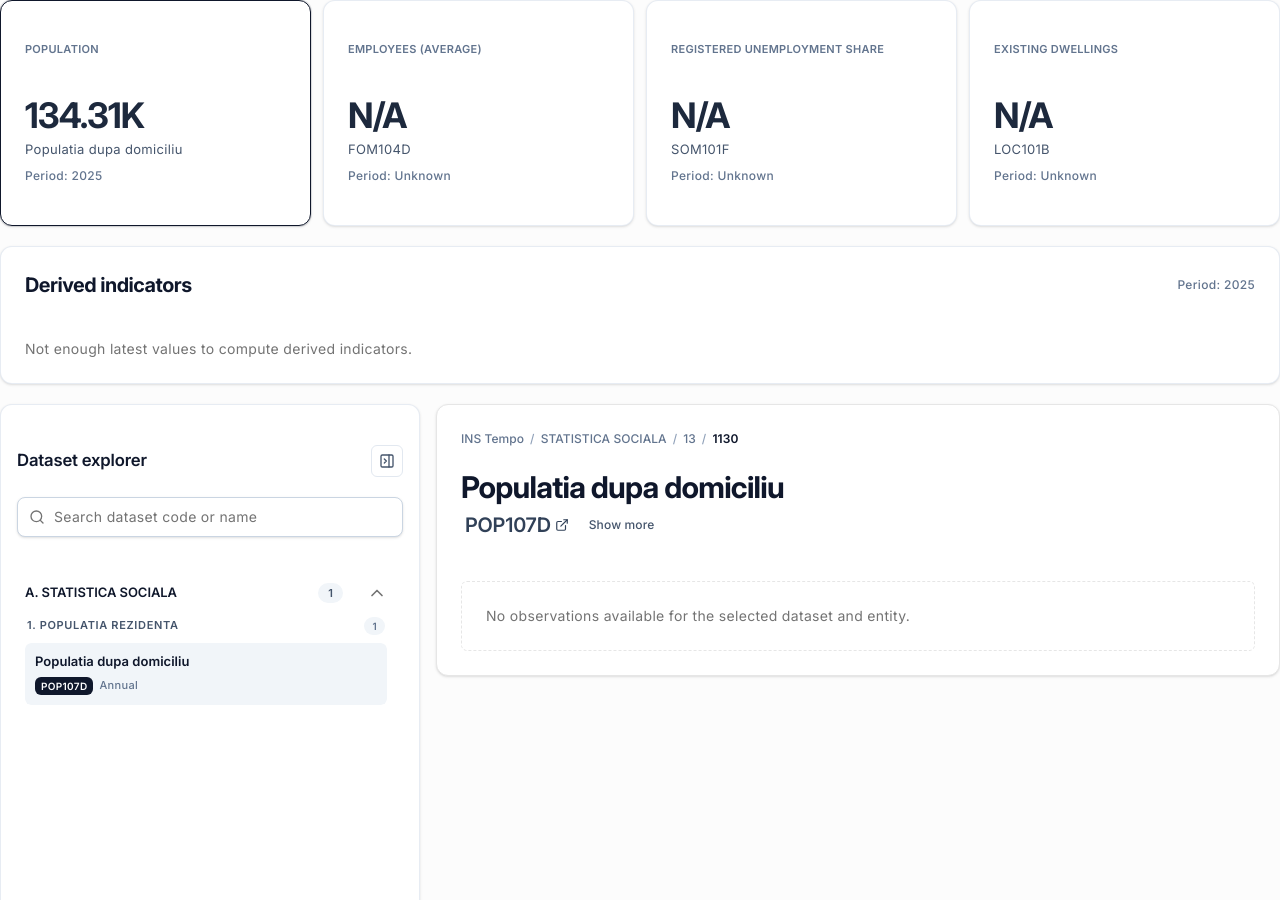
Test: InsStatsView › toggles explorer between panel and full-width modes
Click the button named "Expand explorer to full width".
click(387, 461)  # box [371,445,403,477]
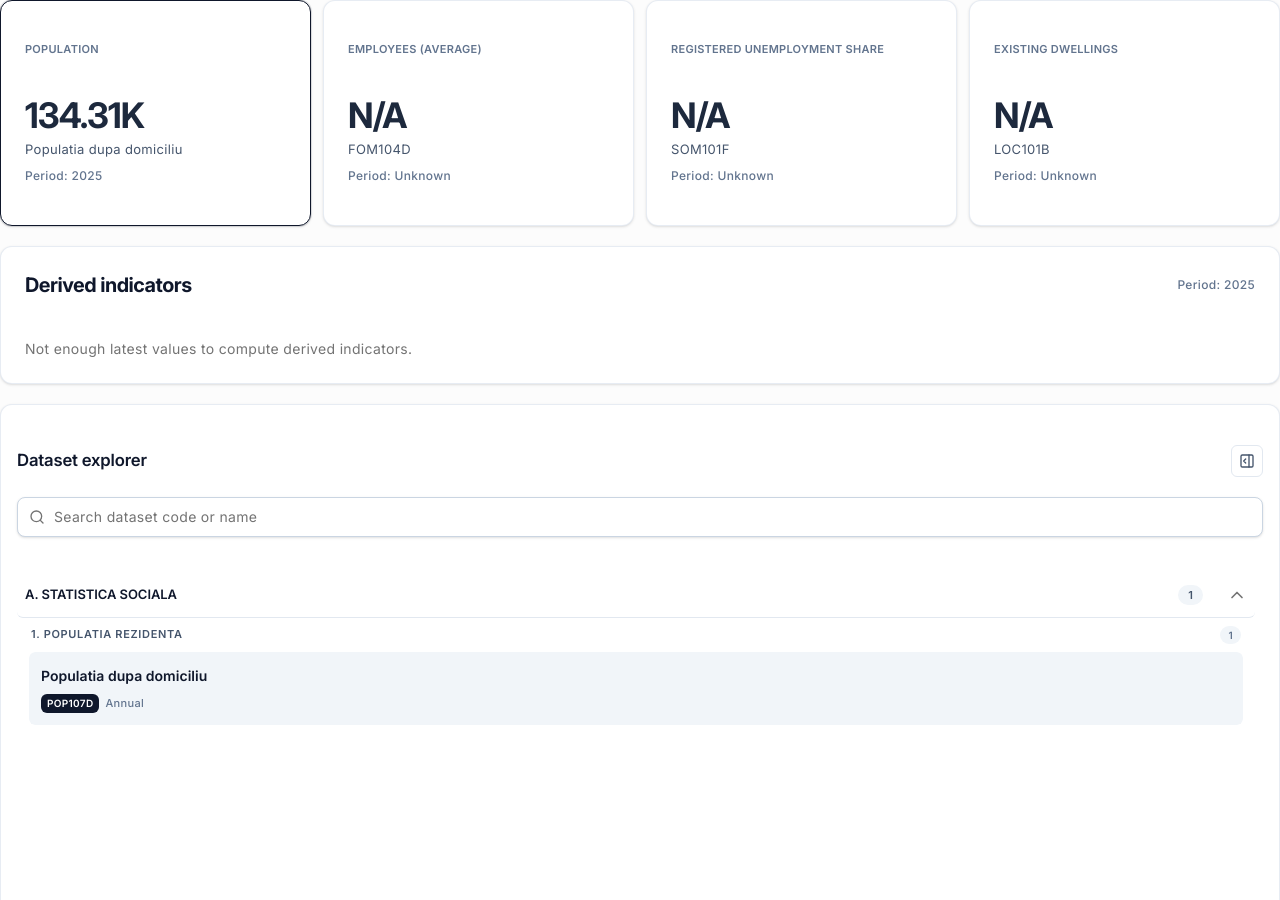
Expected: the button named "Collapse explorer to side panel" is shown, [1231,445,1263,477]
